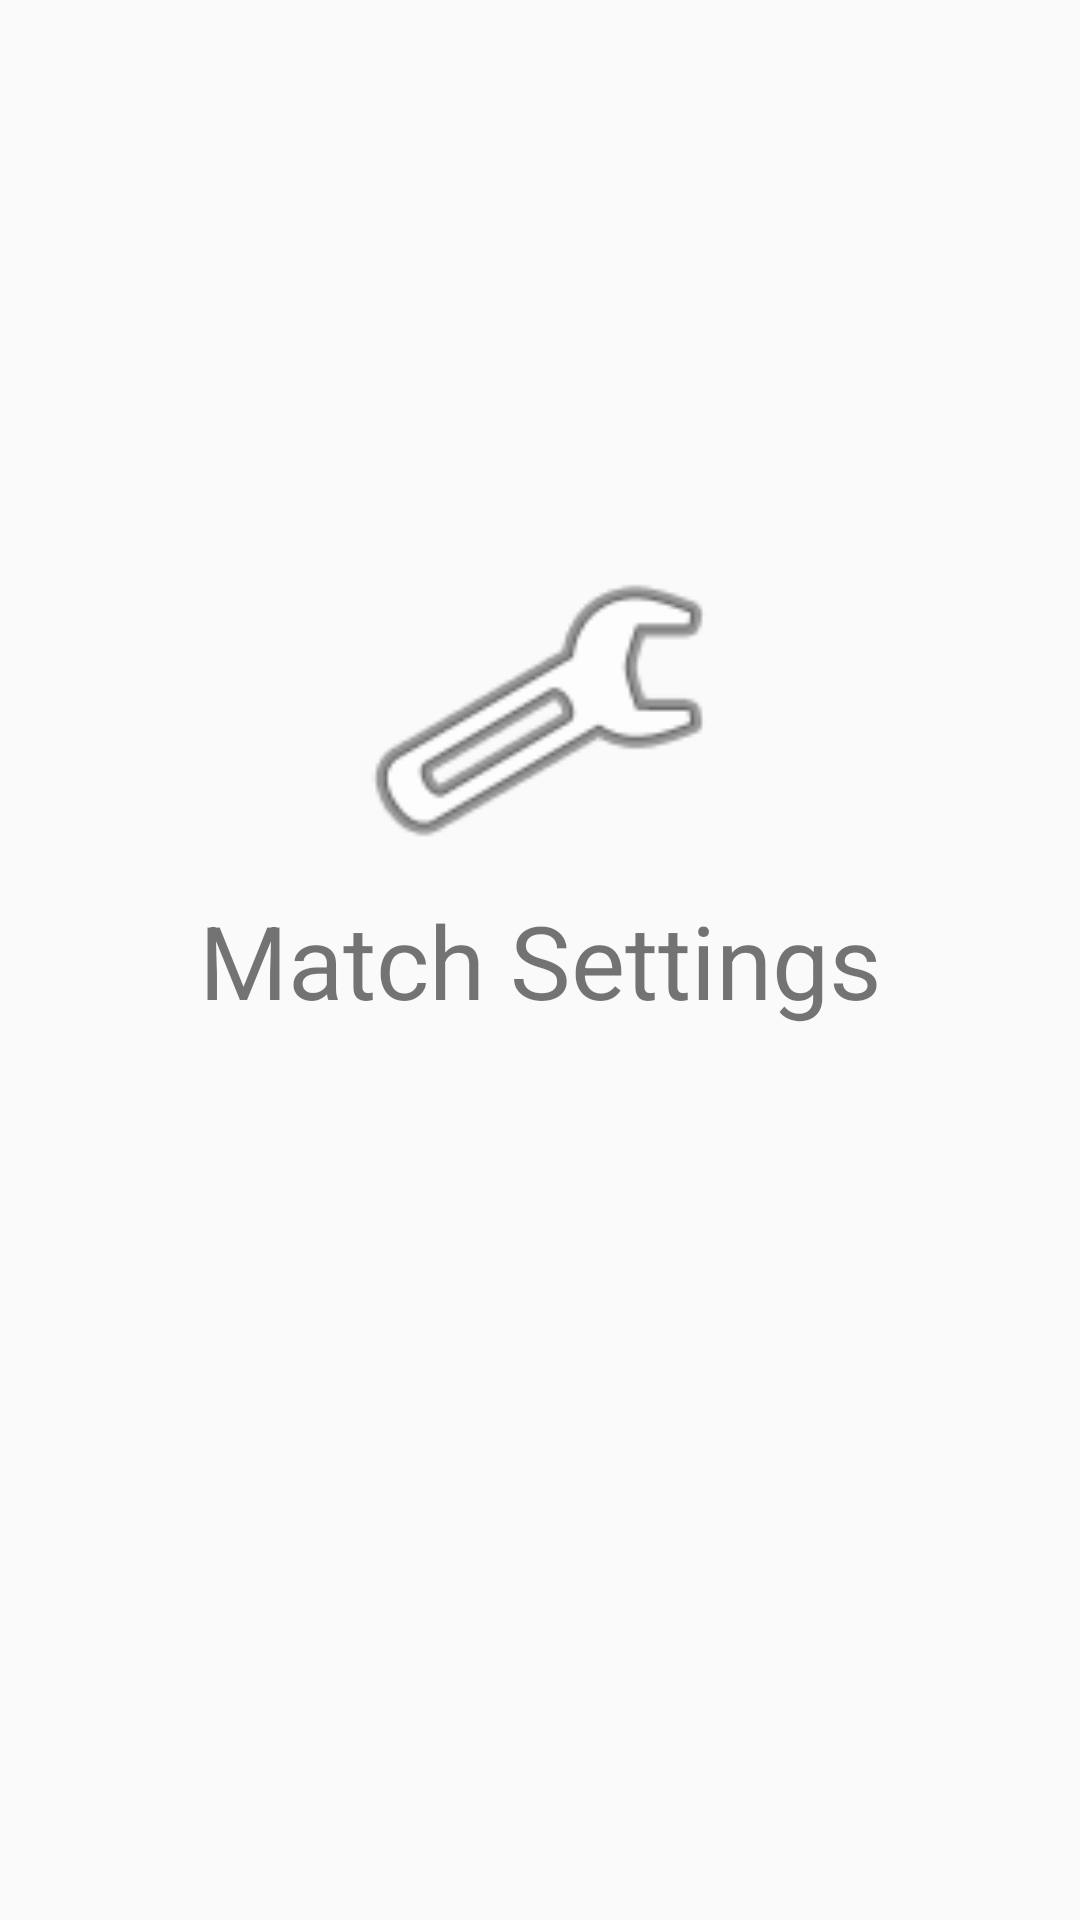

Icons on this 1080 x 1920 Android screen, each with its box as (x1, y1, x2, y2):
manage: (375, 585, 703, 836)
